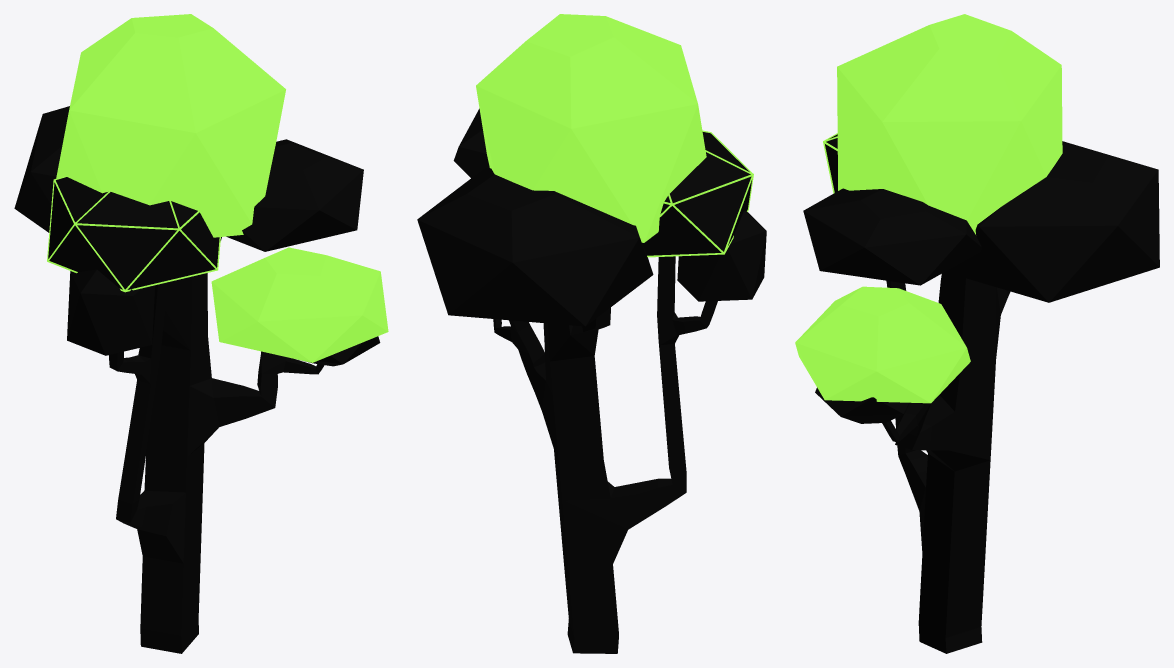
File: Nature_tree_2.glb
3 renders of one model, left to right at view 1: azimuth 30°, elevation 25°; view 2: azimuth 150°, elevation 25°; view 3: azimuth 270°, elevation 25°, orthographic.
Visible parts, largest first — view 1: Icosphere.033; view 2: Icosphere.033; view 3: Icosphere.033.
Part boxes in pixels (left/top/right/bottom): Icosphere.033: left=14, top=14, right=388, bottom=653; Icosphere.033: left=417, top=14, right=766, bottom=653; Icosphere.033: left=795, top=14, right=1159, bottom=653.
Bounding box in the file's own units: 2.68 × 5.16 × 2.76.
